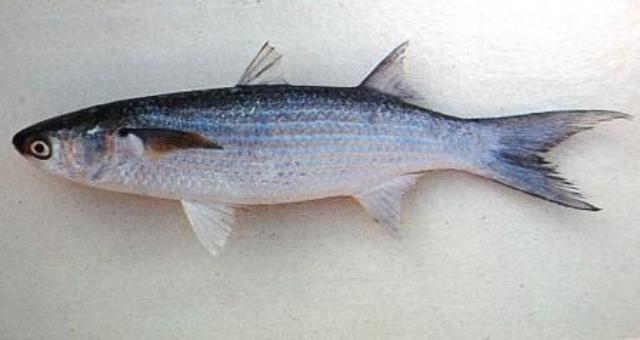Mulut: (7, 128, 38, 170)
Sirip Anal: (348, 163, 432, 245)
Sirip Dada: (119, 116, 229, 172)
Sirip Ekor: (502, 104, 638, 216)
Sirip Perut: (180, 195, 242, 261)
Sirip Punggung: (234, 27, 428, 111)
